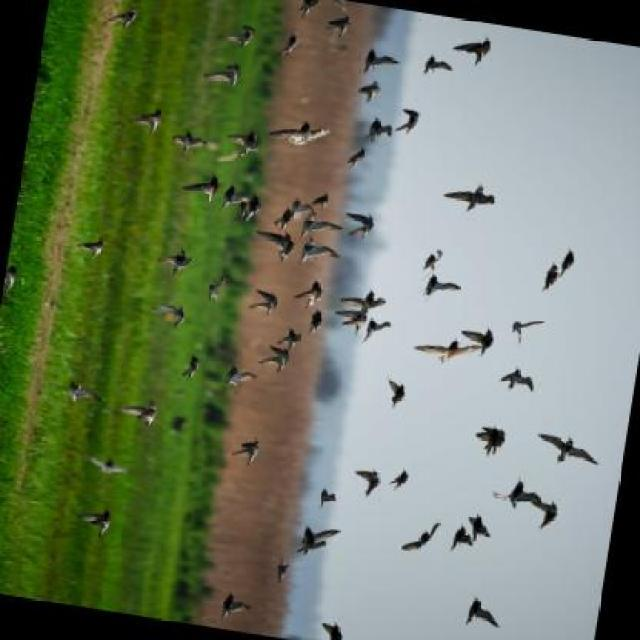Bird: (536, 432, 600, 468), (269, 118, 333, 148), (413, 339, 482, 366), (441, 183, 497, 214), (490, 473, 541, 506), (399, 521, 444, 555), (296, 525, 343, 556), (450, 35, 494, 68), (256, 228, 297, 263), (180, 172, 220, 207), (274, 199, 321, 228), (462, 598, 503, 630), (118, 401, 160, 430), (474, 424, 508, 458), (226, 130, 262, 162), (298, 239, 343, 264), (362, 45, 401, 73), (461, 325, 495, 357), (204, 61, 245, 87), (157, 249, 195, 277), (79, 508, 113, 539), (498, 365, 535, 393), (170, 127, 208, 154), (422, 273, 463, 298), (219, 591, 252, 622), (292, 279, 326, 309), (89, 452, 128, 478), (344, 289, 388, 312), (353, 467, 383, 500), (130, 108, 167, 134), (345, 207, 376, 238), (248, 288, 281, 317), (66, 380, 104, 405), (219, 23, 260, 46), (335, 310, 369, 337), (510, 318, 546, 343), (261, 345, 292, 374), (156, 302, 188, 330), (361, 317, 393, 345), (395, 105, 424, 135), (231, 438, 261, 467), (533, 498, 560, 530), (296, 220, 344, 237), (365, 116, 393, 145), (467, 513, 494, 543), (421, 52, 452, 77), (224, 364, 257, 387), (357, 78, 383, 106), (386, 376, 408, 409), (449, 524, 474, 553), (207, 272, 228, 306), (102, 9, 141, 27), (330, 13, 353, 41), (244, 192, 264, 224), (77, 237, 106, 259), (181, 353, 203, 382), (280, 32, 302, 61), (540, 261, 560, 292), (345, 147, 369, 171), (421, 248, 445, 272), (388, 468, 411, 493), (560, 245, 576, 279), (277, 328, 304, 348), (320, 620, 346, 640), (2, 262, 18, 294), (221, 184, 238, 209), (319, 487, 338, 509), (310, 309, 324, 336), (276, 560, 291, 584), (312, 191, 331, 209)
